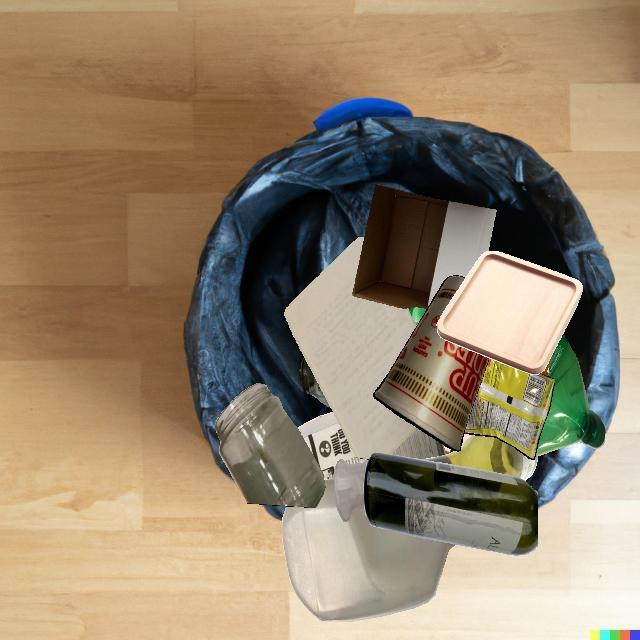cardboard: (352, 184, 496, 309)
combustible waste: (437, 251, 582, 375), (461, 370, 547, 445)
glass: (363, 453, 538, 556), (215, 383, 325, 508), (422, 435, 537, 481), (334, 459, 369, 522), (299, 358, 330, 407), (449, 449, 455, 453)
paper: (284, 237, 417, 459), (297, 412, 369, 480), (390, 428, 446, 459)
plastic: (282, 478, 455, 621), (537, 334, 605, 456), (540, 353, 553, 376)
trash: (373, 275, 489, 451), (464, 358, 555, 460)
